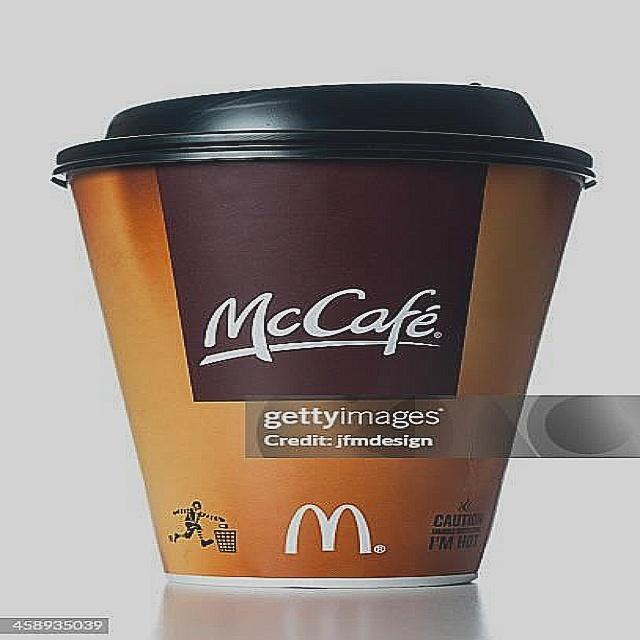paper_cup: (33, 80, 618, 594)
